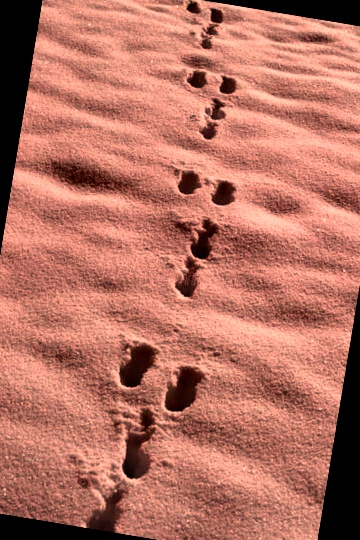lapin: (143, 205, 194, 305), (151, 64, 212, 141), (176, 408, 225, 490), (129, 354, 180, 422), (185, 337, 232, 400), (167, 1, 221, 54), (190, 489, 244, 540), (130, 160, 167, 205), (172, 158, 206, 205)
